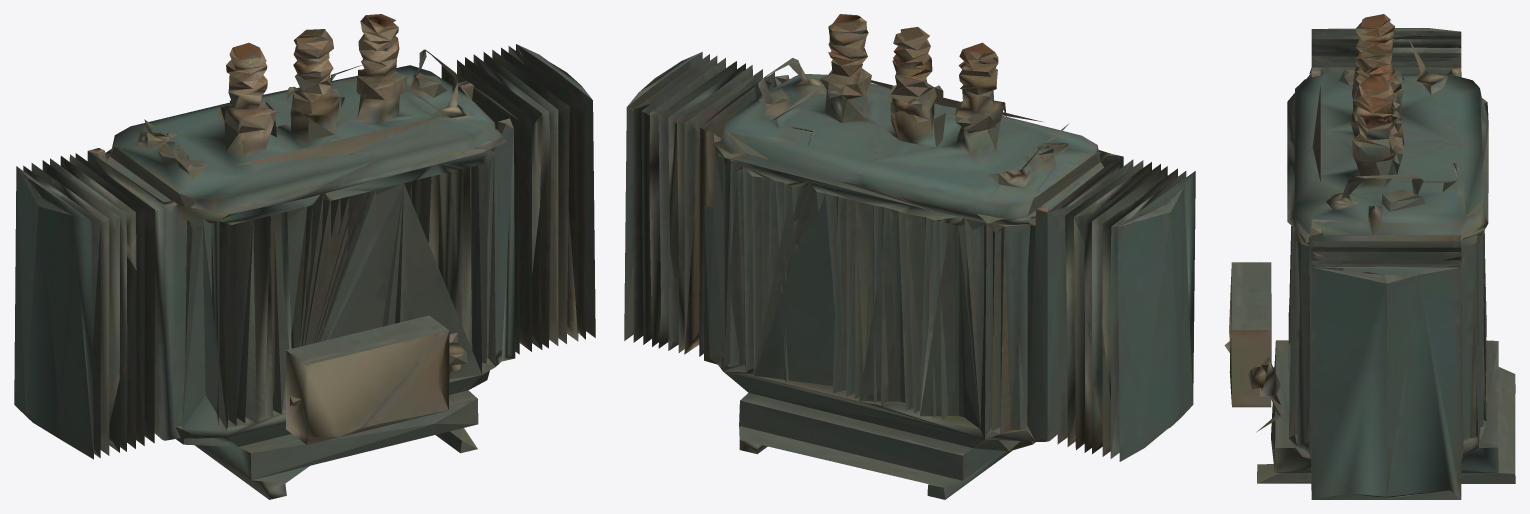
Rendered from switchyard-transformer.glb.
3 renders of one model, left to right at view 1: azimuth 30°, elevation 25°; view 2: azimuth 150°, elevation 25°; view 3: azimuth 270°, elevation 25°, orthographic. The views are drawn at different scales.
Parts seen in each view (by area): view 1: mesh_node; view 2: mesh_node; view 3: mesh_node.
Boxes of the visible parts, x1,y1,x2,y2 form: mesh_node: [14, 14, 595, 499]; mesh_node: [624, 14, 1195, 499]; mesh_node: [1224, 14, 1515, 499].
Bounding box in the file's own units: 0.5599 × 0.4 × 0.2741.
Materials: 1 (1 with a texture image).
